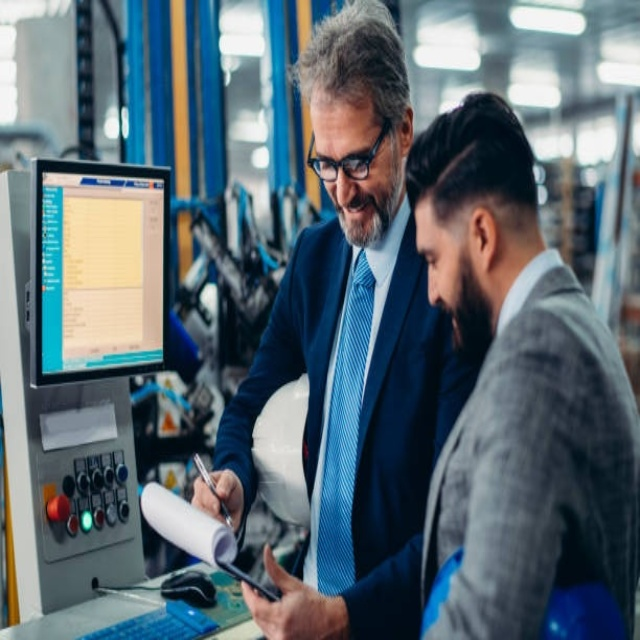Gafas: (307, 118, 392, 184)
Sin_gafas: (416, 227, 454, 273)
Sin_guantes: (239, 542, 339, 640), (191, 466, 244, 535)
Sin_mascara: (426, 282, 466, 351), (336, 196, 371, 234)
